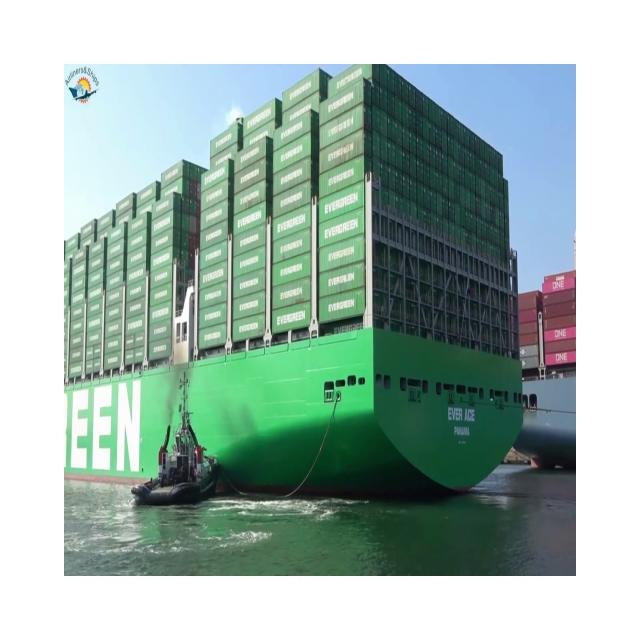OCR: (69, 370, 150, 484), (444, 394, 477, 457)
